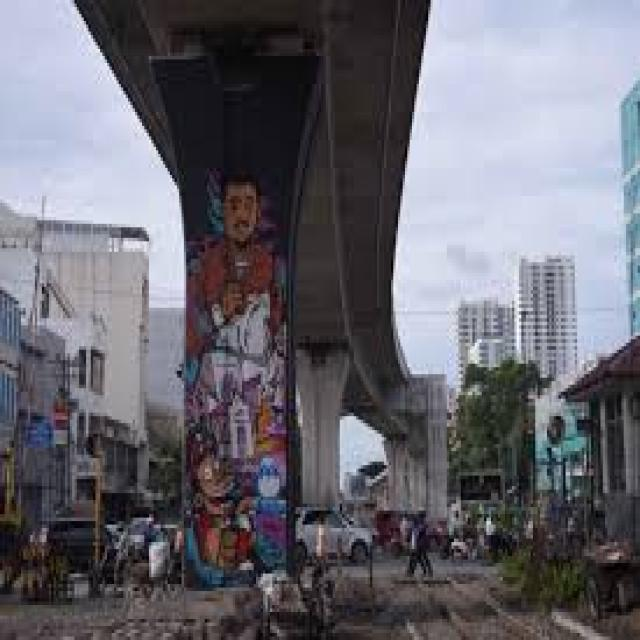-: (182, 162, 292, 586)
